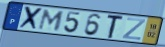5: (62, 11, 83, 34)
6: (83, 13, 103, 37)
M: (37, 9, 66, 32)
T: (106, 15, 125, 40)
X: (17, 5, 44, 32)
Z: (121, 17, 148, 41)
